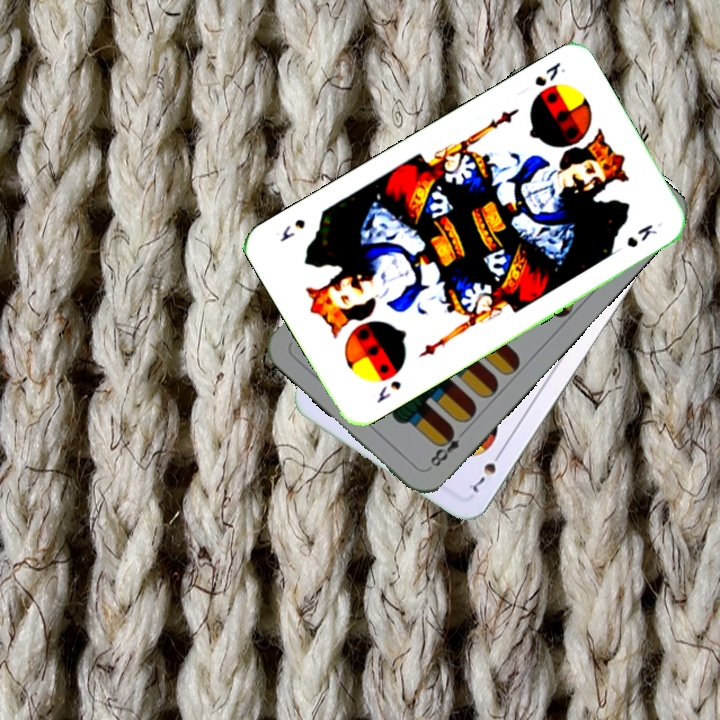E8: (424, 424, 469, 472)
S7: (468, 446, 506, 494)
SK: (530, 57, 568, 89), (372, 376, 404, 406)
